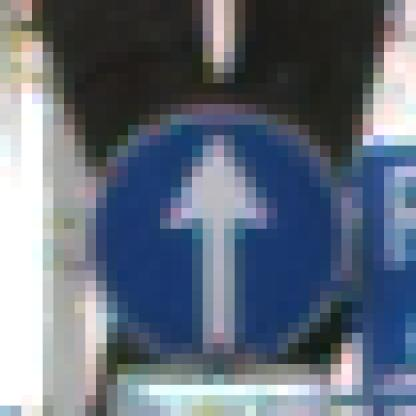AheadOnly: (54, 63, 353, 365)
